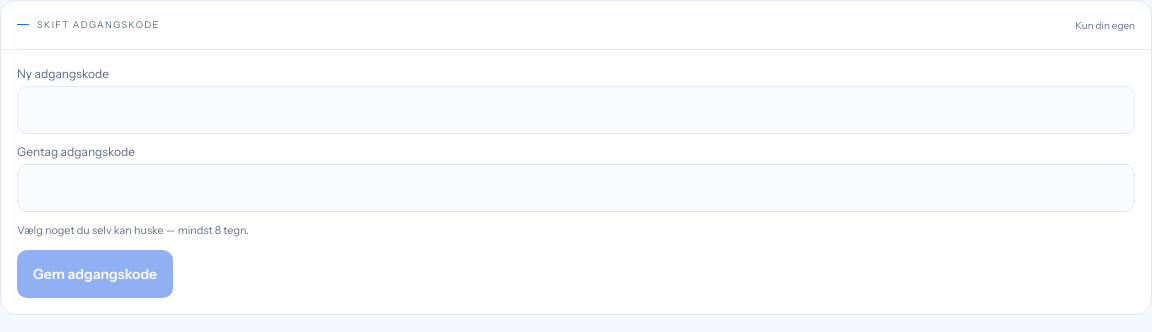
Test: changing your own password › sends the new password and says the session survives
The width and height of the screenshot is (1152, 332).
In the password field labelled "Ny adgangskode": (576, 110) [17,86,1135,134], type "erhvervsklub2026"
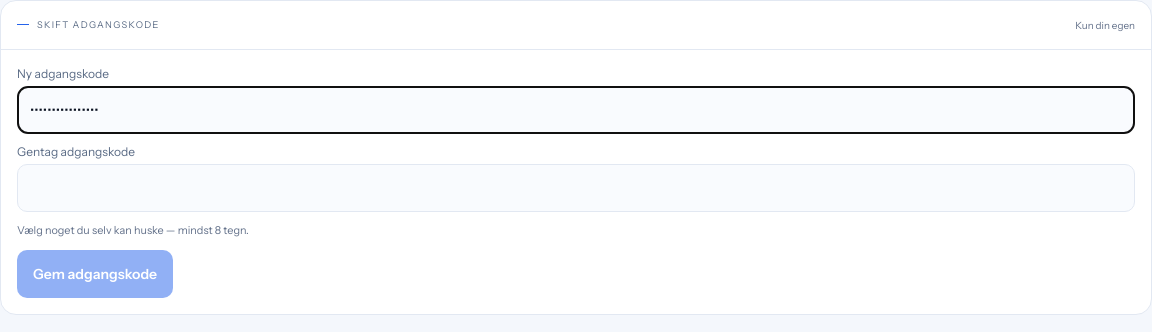
In the password field labelled "Gentag adgangskode": (576, 188) [17,164,1135,212], type "erhvervsklub2026"
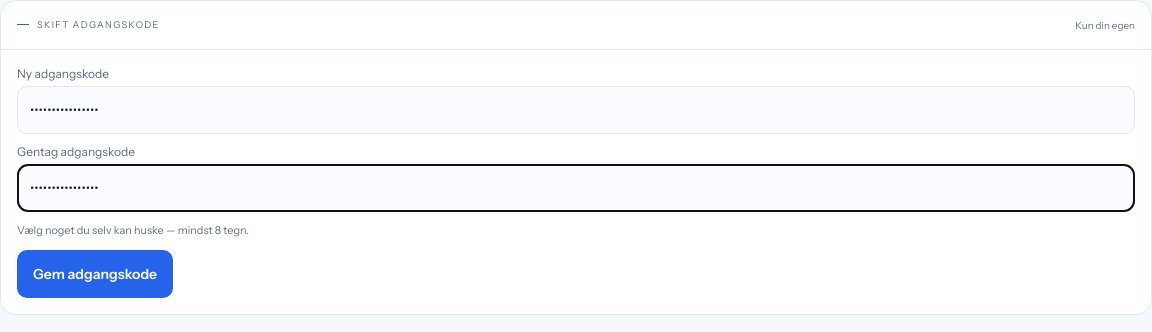
Click the button "Gem adgangskode": (95, 274) [17,250,173,298]
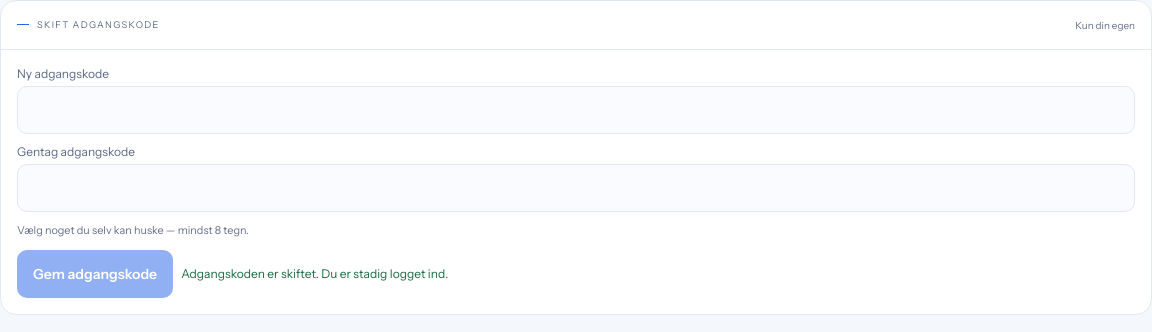
Check: the text "Adgangskoden er skiftet. Du er stadig logget ind." is shown, box [181,266,448,282]
Check: the password field labelled "Ny adgangskode" is empty, box [17,86,1135,134]
